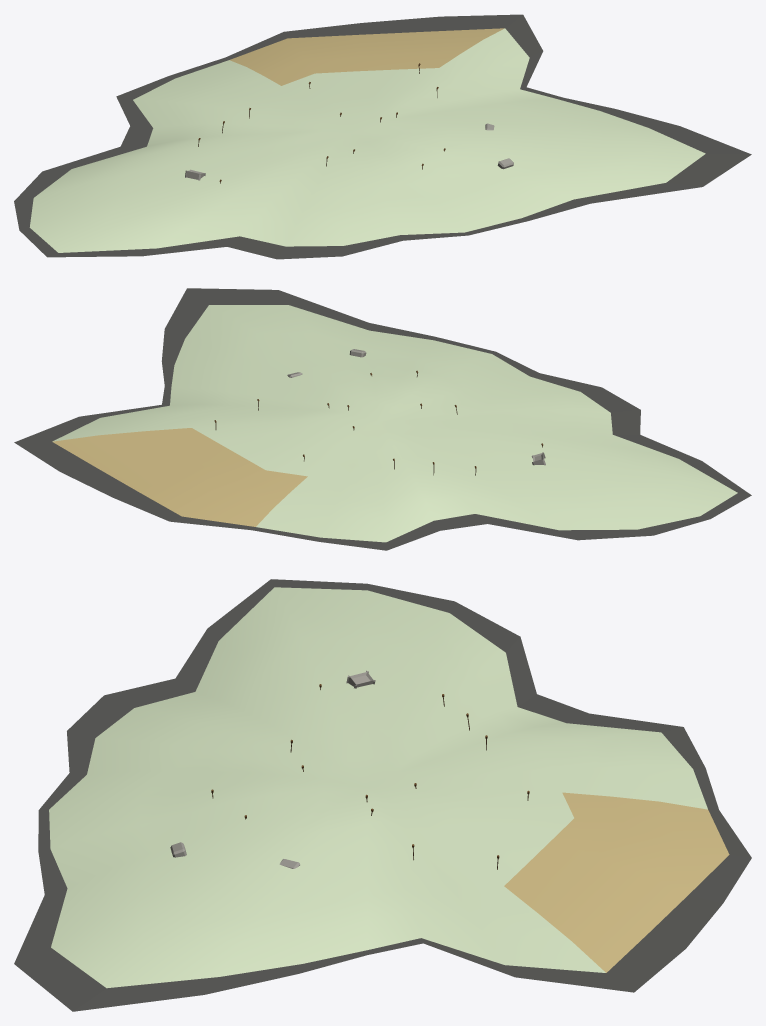
File: moss_patch.glb
3 views of the same model, one above another, from view 1: azimuth 30°, elevation 25°; view 2: azimuth 150°, elevation 25°; view 3: azimuth 270°, elevation 25° (orthographic). The views are drawn at different scales.
Parts seen in each view (by area): view 1: teil0, teil2, teil1; view 2: teil0, teil2, teil1; view 3: teil0, teil2, teil1.
Boxes of the visible parts, <box> form: teil0: <box>29,28,705,252</box>; teil2: <box>14,14,751,259</box>; teil1: <box>229,28,504,85</box>; teil0: <box>52,305,737,542</box>; teil2: <box>14,288,751,550</box>; teil1: <box>52,428,307,526</box>; teil0: <box>49,587,707,988</box>; teil2: <box>14,579,751,1011</box>; teil1: <box>504,792,729,972</box>.
Bounding box in the file's own units: 1.49 × 0.0579 × 1.07.
